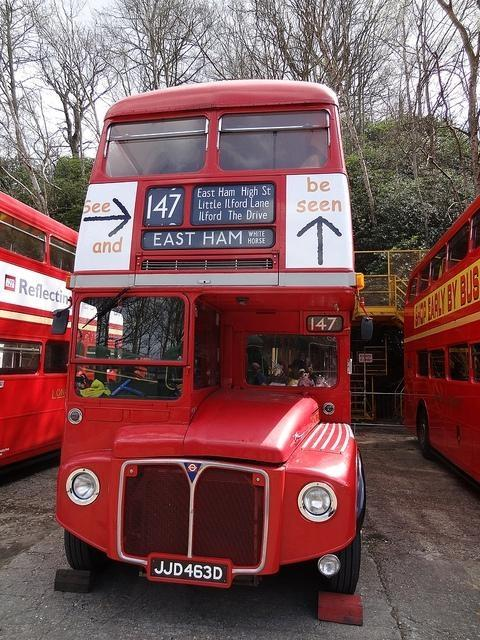bus: (55, 78, 366, 594), (0, 190, 78, 480), (406, 195, 478, 492)
